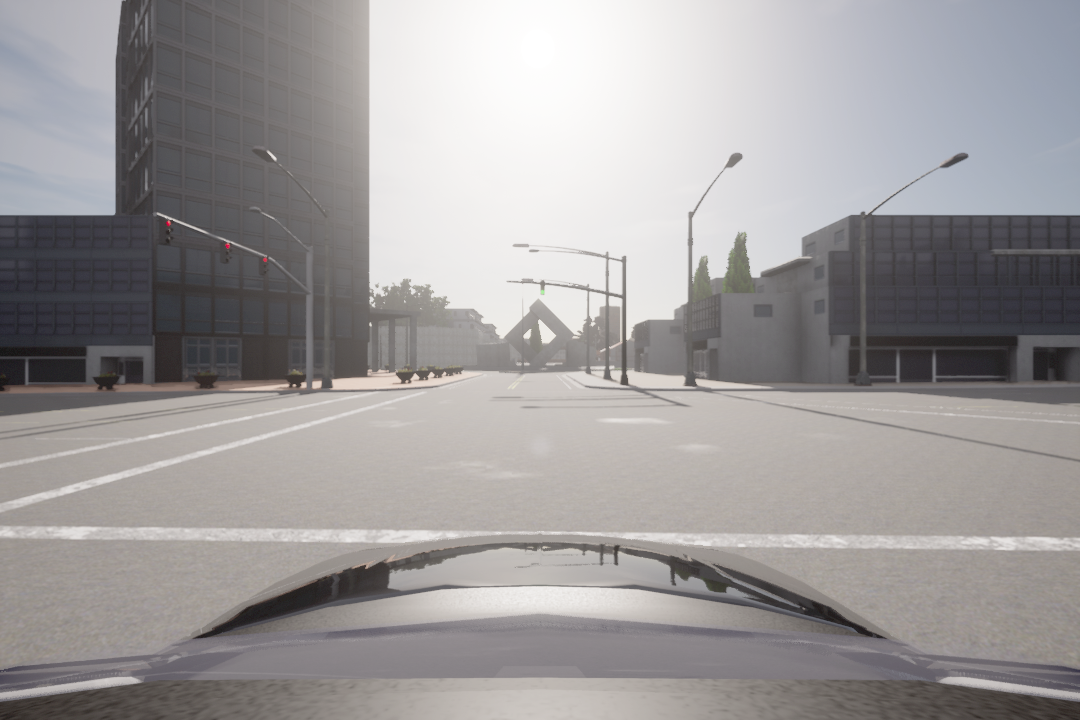TrafficLight: (159, 216, 178, 251), (217, 241, 234, 267), (256, 254, 273, 280), (537, 277, 547, 301)
